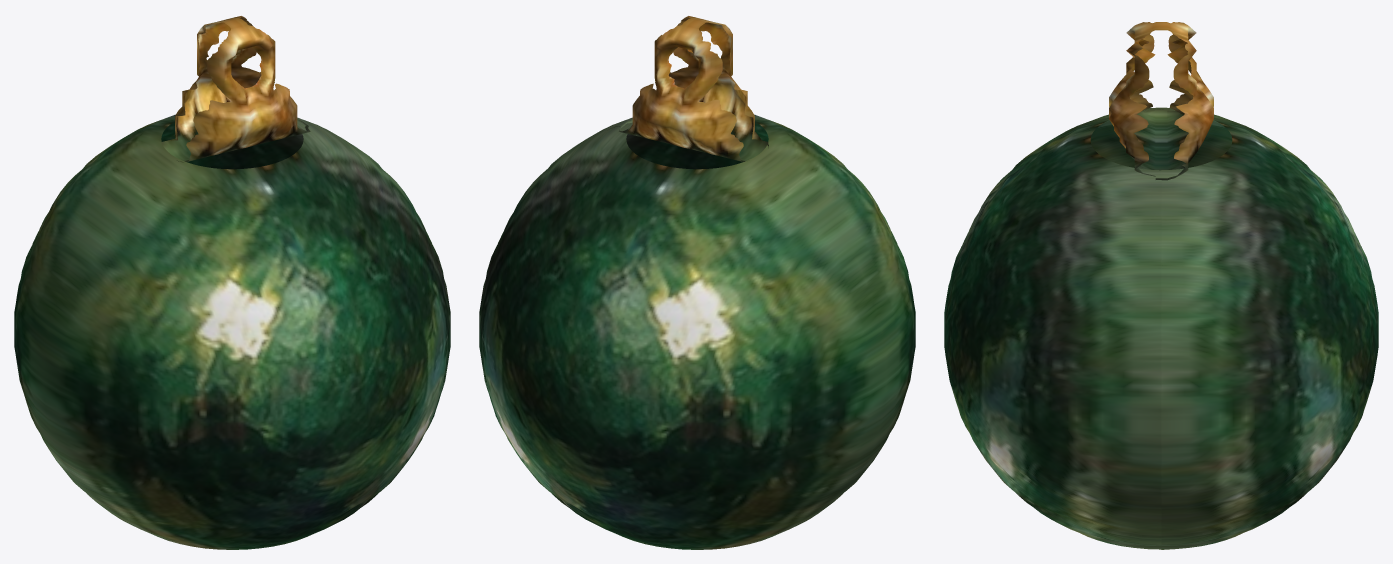
File: Item_emerald.glb
3 views of the same model, side by side, from view 1: azimuth 30°, elevation 25°; view 2: azimuth 150°, elevation 25°; view 3: azimuth 270°, elevation 25° (orthographic).
Visible parts, largest first — view 1: Lacquered glass.003, Item_emerald carving; view 2: Lacquered glass.003, Item_emerald carving; view 3: Lacquered glass.003, Item_emerald carving.
Boxes of the visible parts, x1,y1,x2,y2 form: Lacquered glass.003: (14, 114, 450, 549); Item_emerald carving: (161, 16, 310, 162); Lacquered glass.003: (479, 114, 915, 549); Item_emerald carving: (619, 16, 768, 161); Lacquered glass.003: (944, 107, 1378, 549); Item_emerald carving: (1109, 22, 1213, 180).
Bounding box in the file's own units: 0.2235 × 0.2852 × 0.2234.
1 material, 1 textured.
